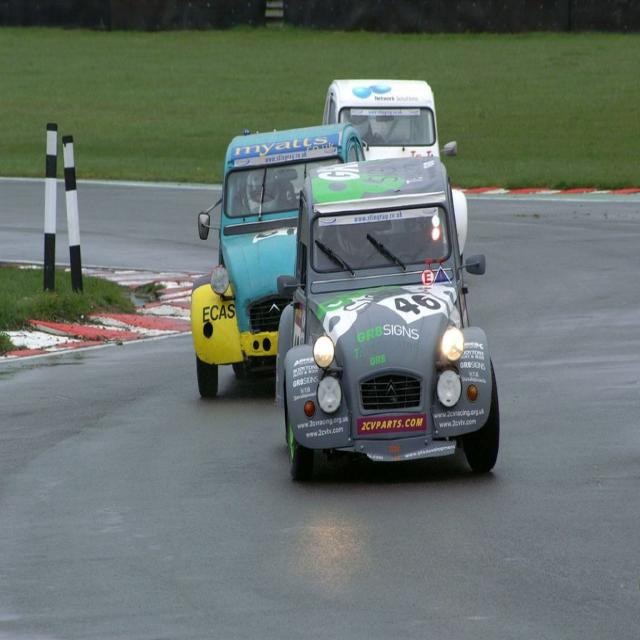car: (277, 203, 498, 479)
